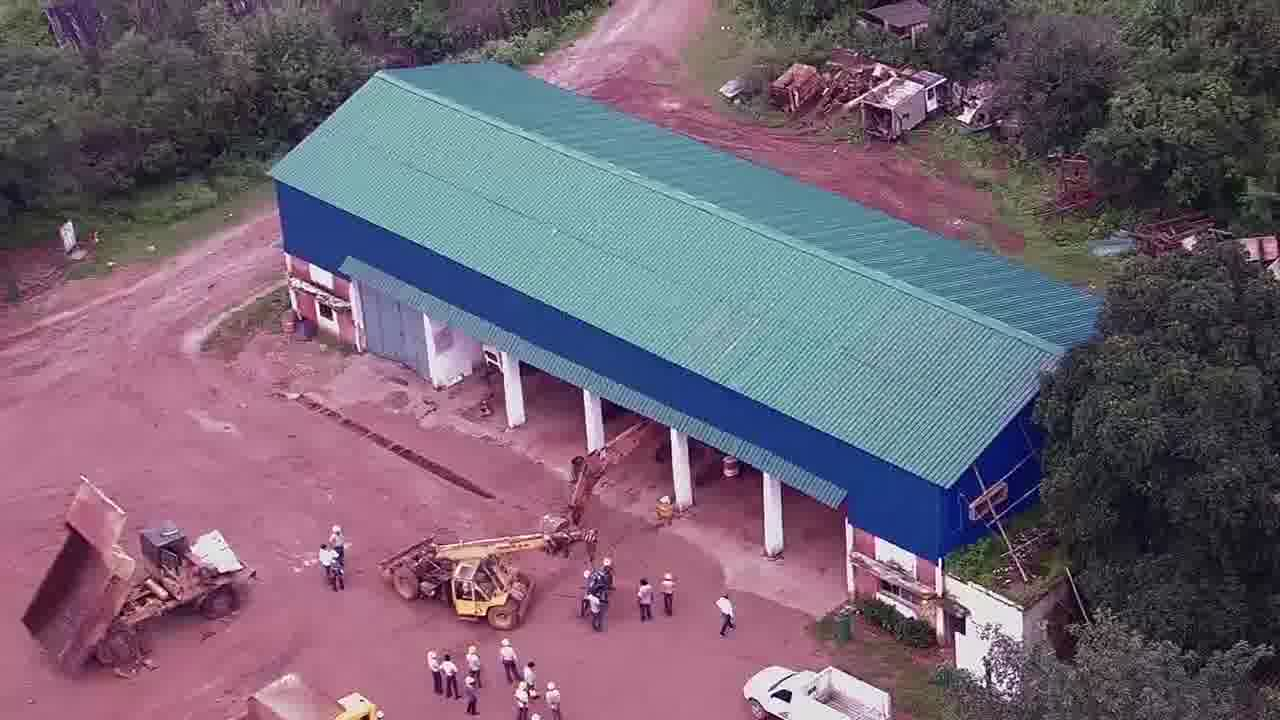HMV: (20, 478, 241, 670)
LMV: (749, 645, 890, 720)
Person: (716, 589, 739, 640), (499, 636, 521, 687), (635, 573, 656, 624), (426, 645, 442, 702), (660, 569, 677, 620), (462, 675, 483, 714), (586, 587, 604, 629), (328, 547, 345, 589), (319, 543, 334, 590), (330, 523, 346, 567), (513, 679, 529, 720), (443, 653, 457, 699), (467, 643, 481, 689), (547, 678, 561, 720), (526, 659, 536, 703)
